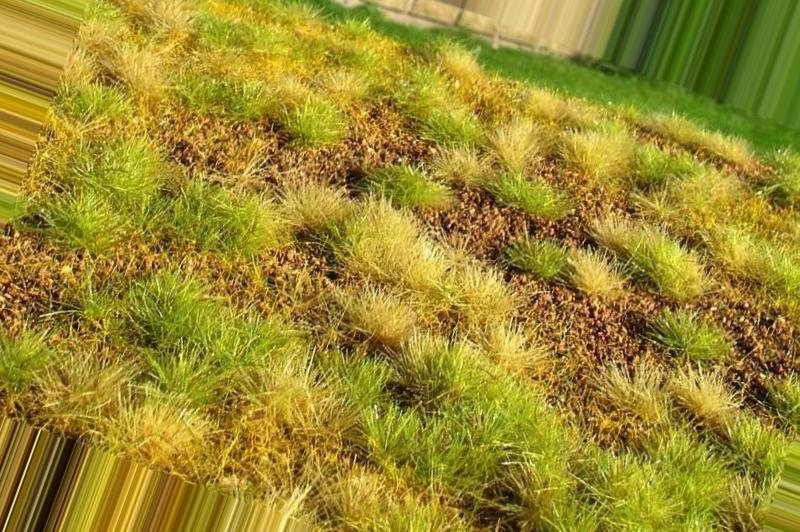patch: (93, 22, 348, 450), (352, 182, 548, 393), (311, 372, 544, 492)
